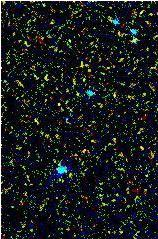star: (38, 86, 68, 116)
